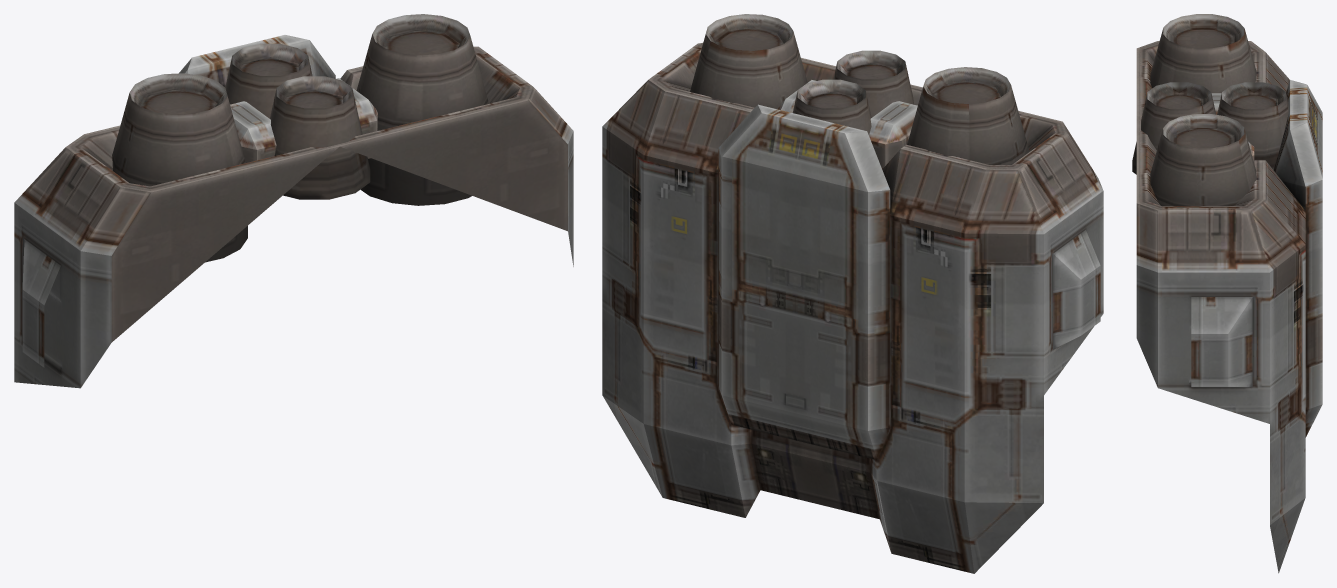
File: hgn_fs_explorer_03_engine_m.glb
The picture shows the model from 3 angles, left to right: view 1: azimuth 30°, elevation 25°; view 2: azimuth 150°, elevation 25°; view 3: azimuth 270°, elevation 25°; orthographic projection. The views are drawn at different scales.
Visible parts, largest first — view 1: hgn_fs_explorer_03_engine_m; view 2: hgn_fs_explorer_03_engine_m; view 3: hgn_fs_explorer_03_engine_m.
Part boxes in pixels (bbox=[...]): hgn_fs_explorer_03_engine_m: bbox=[14, 14, 573, 388]; hgn_fs_explorer_03_engine_m: bbox=[602, 14, 1103, 573]; hgn_fs_explorer_03_engine_m: bbox=[1132, 14, 1322, 573].
Size of the model in its own units: 2.52 by 2.29 by 0.9378.
1 material, 1 textured.
